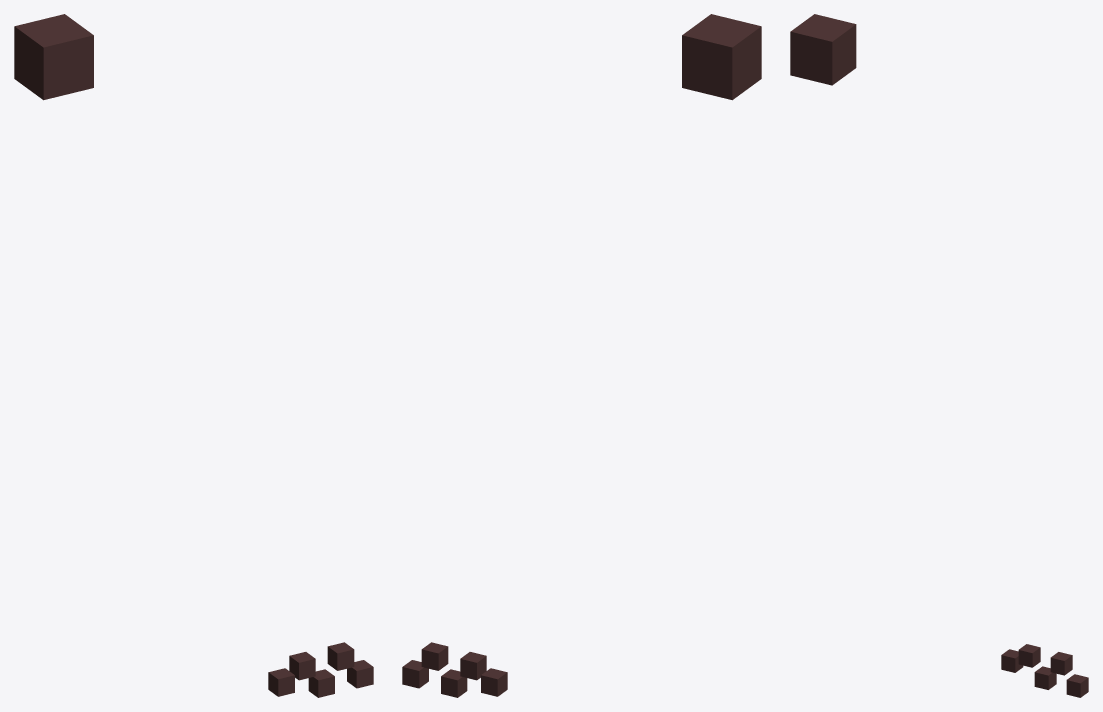
Rendered from Lambung.Makanan.fbx.
The picture shows the model from 3 angles, left to right: view 1: azimuth 30°, elevation 25°; view 2: azimuth 150°, elevation 25°; view 3: azimuth 330°, elevation 25°; orthographic projection. The views are drawn at different scales.
Parts seen in each view (by area): view 1: Makanan, Makanan.Pecah.1; view 2: Makanan, Makanan.Pecah.1; view 3: Makanan, Makanan.Pecah.1.
Boxes of the visible parts, bbox=[...] form: Makanan: bbox=[14, 14, 93, 100]; Makanan.Pecah.1: bbox=[268, 642, 373, 697]; Makanan: bbox=[682, 14, 761, 100]; Makanan.Pecah.1: bbox=[402, 642, 507, 697]; Makanan: bbox=[790, 14, 856, 85]; Makanan.Pecah.1: bbox=[1001, 644, 1088, 697].
Bounding box in the file's own units: 202 × 414 × 30.
